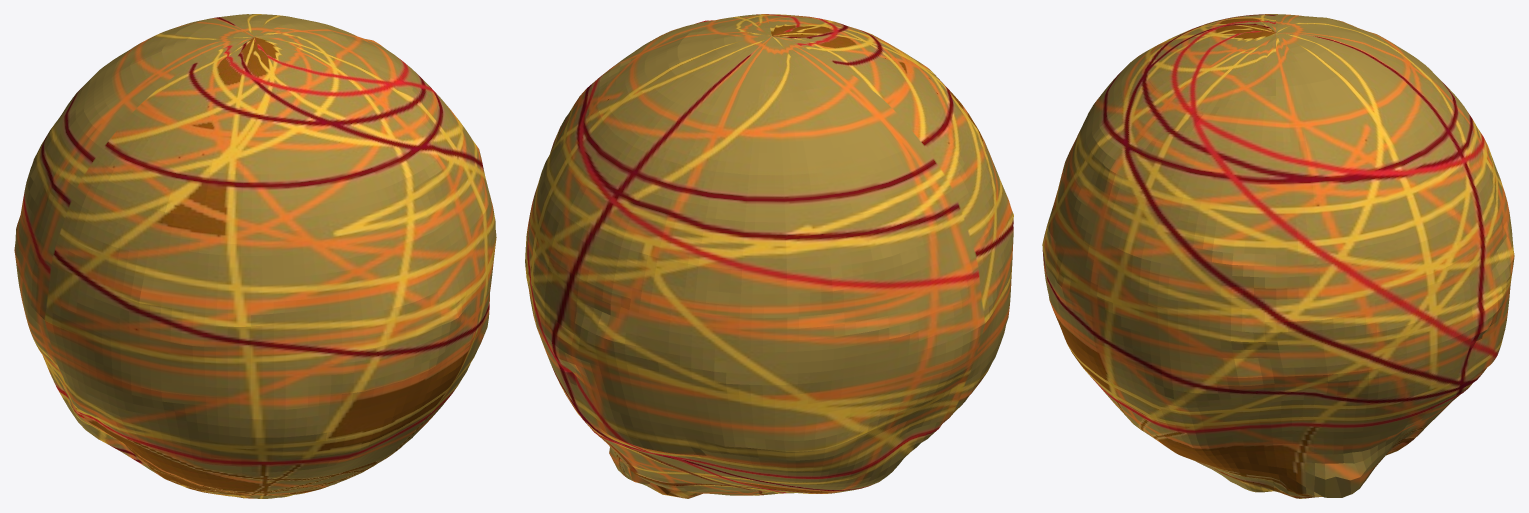
File: europa.glb
The picture shows the model from 3 angles, left to right: view 1: azimuth 30°, elevation 25°; view 2: azimuth 150°, elevation 25°; view 3: azimuth 270°, elevation 25°; orthographic projection. The views are drawn at different scales.
Parts seen in each view (by area): view 1: Sphere; view 2: Sphere; view 3: Sphere.
Part boxes in pixels (x1,y1,x2,y2): Sphere: (14,14,496,498); Sphere: (525,14,1013,498); Sphere: (1042,14,1514,498).
Size of the model in its own units: 7.17 by 7.32 by 7.23.
Materials: 1 (1 with a texture image).
